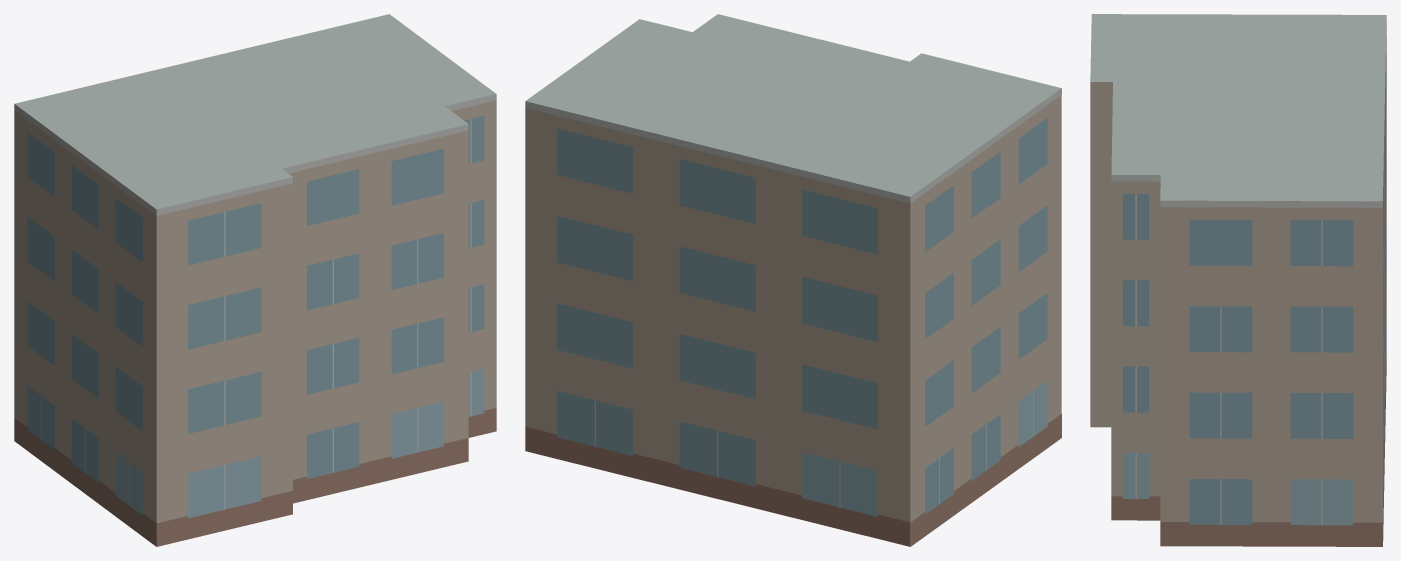
File: survey-upis-32962363.glb
3 renders of one model, left to right at view 1: azimuth 30°, elevation 25°; view 2: azimuth 150°, elevation 25°; view 3: azimuth 270°, elevation 25°, orthographic. The views are drawn at different scales.
Visible parts, largest first — view 1: survey-upis-32962363.tmp; view 2: survey-upis-32962363.tmp; view 3: survey-upis-32962363.tmp.
Boxes of the visible parts, <box> form: survey-upis-32962363.tmp: <box>14,14,496,546</box>; survey-upis-32962363.tmp: <box>525,14,1061,546</box>; survey-upis-32962363.tmp: <box>1090,14,1386,546</box>.
Bounding box in the file's own units: 15.08 × 12.95 × 10.08.
